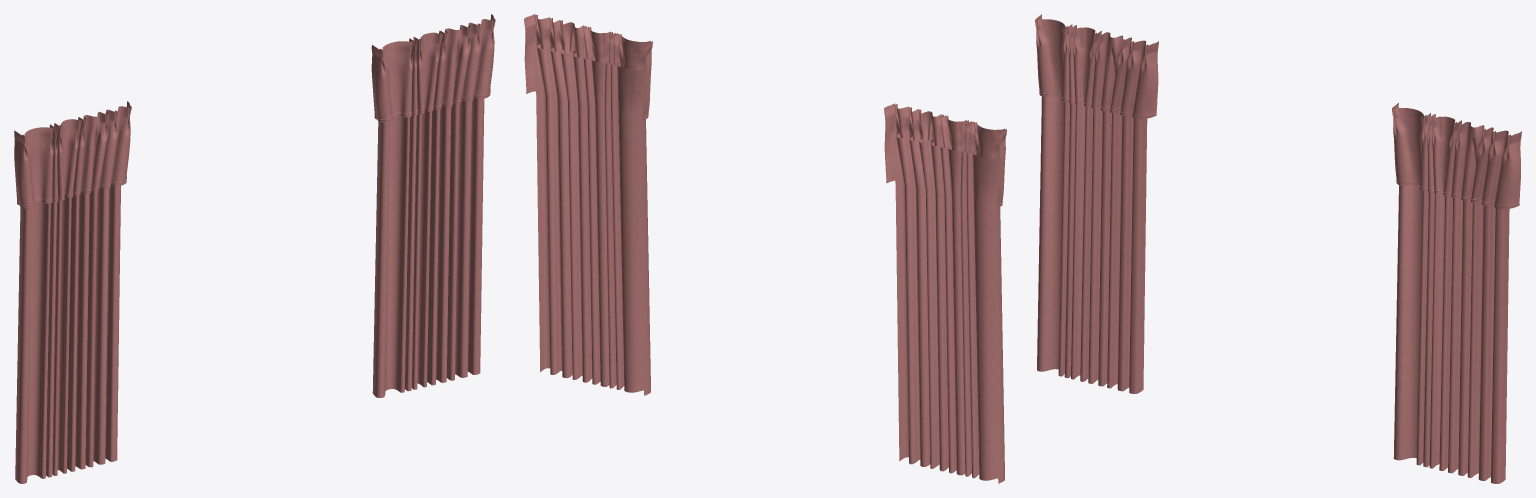
Rendered from CW_chuanglian1.fbx.
3 views of the same model, side by side, from view 1: azimuth 30°, elevation 25°; view 2: azimuth 150°, elevation 25°; view 3: azimuth 330°, elevation 25° (orthographic).
Parts seen in each view (by area): view 1: CW_chuanglian1; view 2: CW_chuanglian1; view 3: CW_chuanglian1.
Part boxes in pixels (x1,y1,x2,y2): CW_chuanglian1: (14,14,495,483); CW_chuanglian1: (524,14,1006,483); CW_chuanglian1: (1035,14,1521,483).
Size of the model in its own units: 414 by 290 by 16.54.
